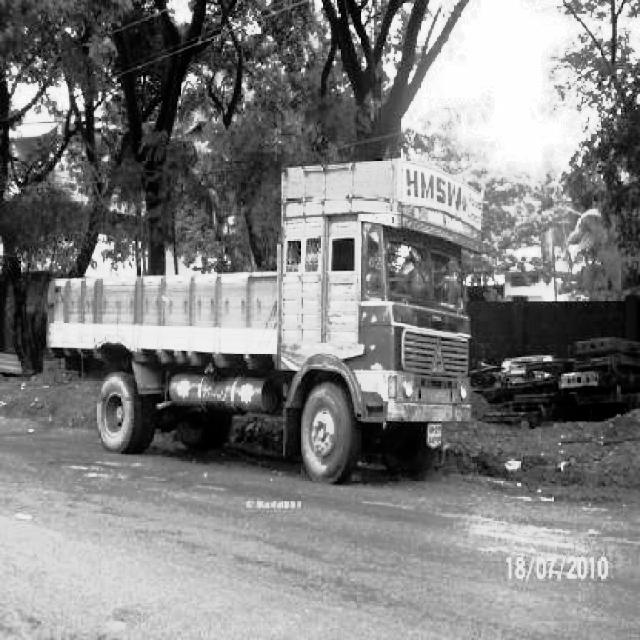HCV: (28, 168, 474, 443)
